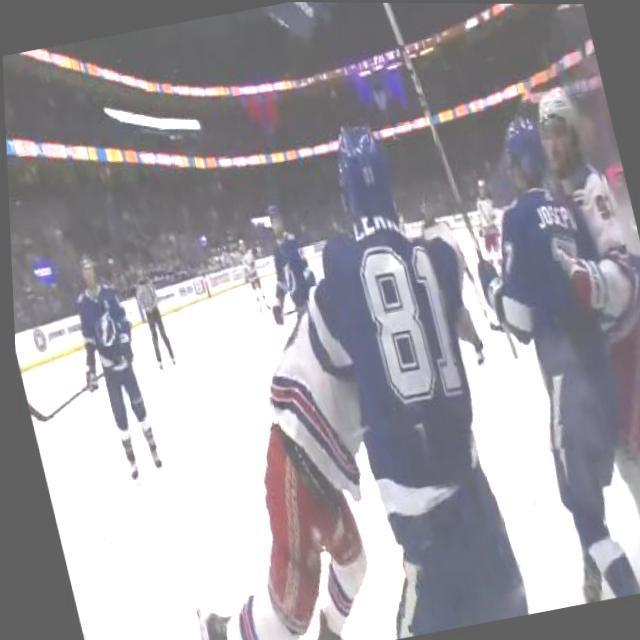fight: (138, 106, 546, 640)
